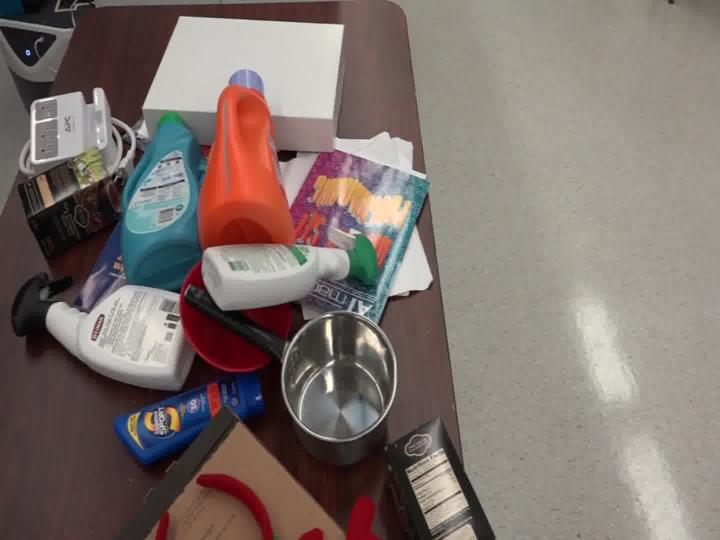tide: (190, 50, 322, 261)
